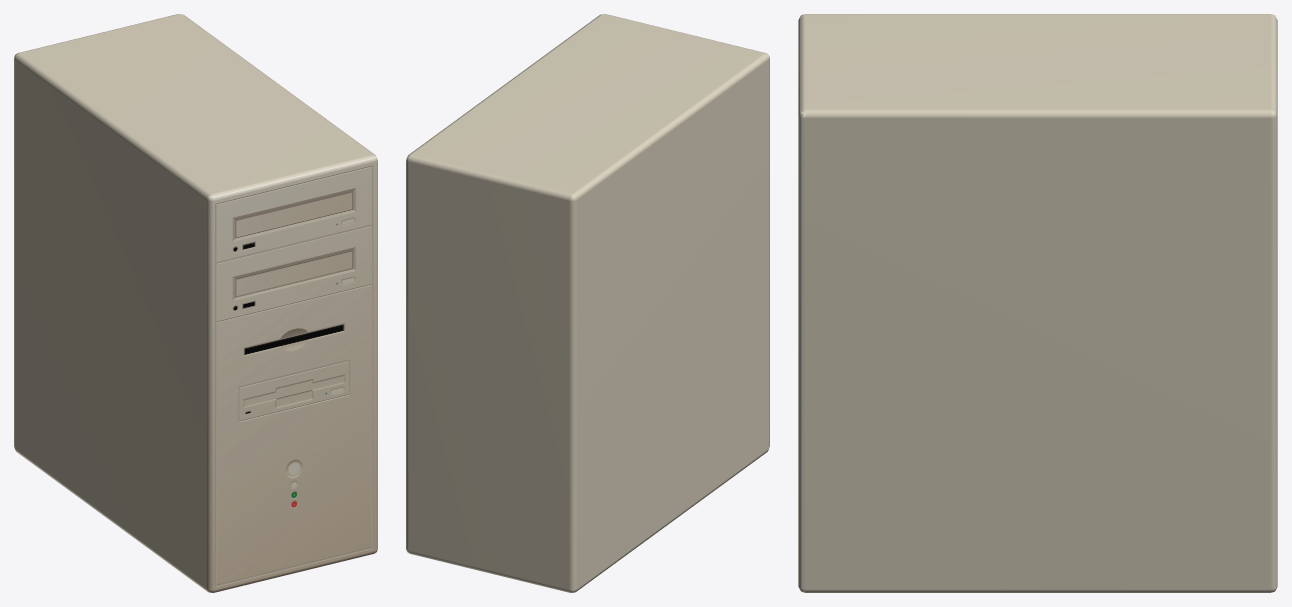
The model's file is oldPCtower.fbx.
3 views of the same model, side by side, from view 1: azimuth 30°, elevation 25°; view 2: azimuth 150°, elevation 25°; view 3: azimuth 270°, elevation 25° (orthographic). The views are drawn at different scales.
Parts seen in each view (by area): view 1: oldPCtower; view 2: oldPCtower; view 3: oldPCtower.
Boxes of the visible parts, left/top/right/bottom form: oldPCtower: left=14, top=14, right=377, bottom=592; oldPCtower: left=406, top=14, right=769, bottom=592; oldPCtower: left=798, top=14, right=1277, bottom=592.
Bounding box in the file's own units: 4.39 × 9.8 × 8.81.
Materials: 1 (1 with a texture image).
